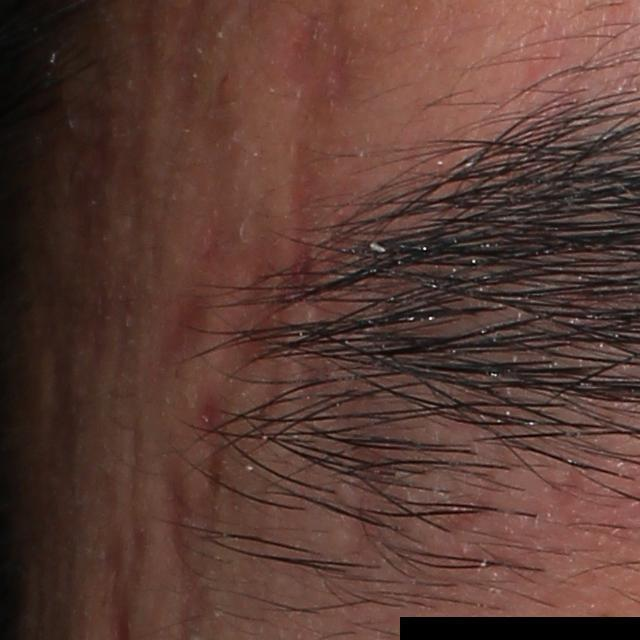atrophic_scar: (153, 127, 248, 372), (275, 10, 359, 116), (284, 131, 333, 292), (151, 420, 192, 571), (195, 390, 229, 506)
